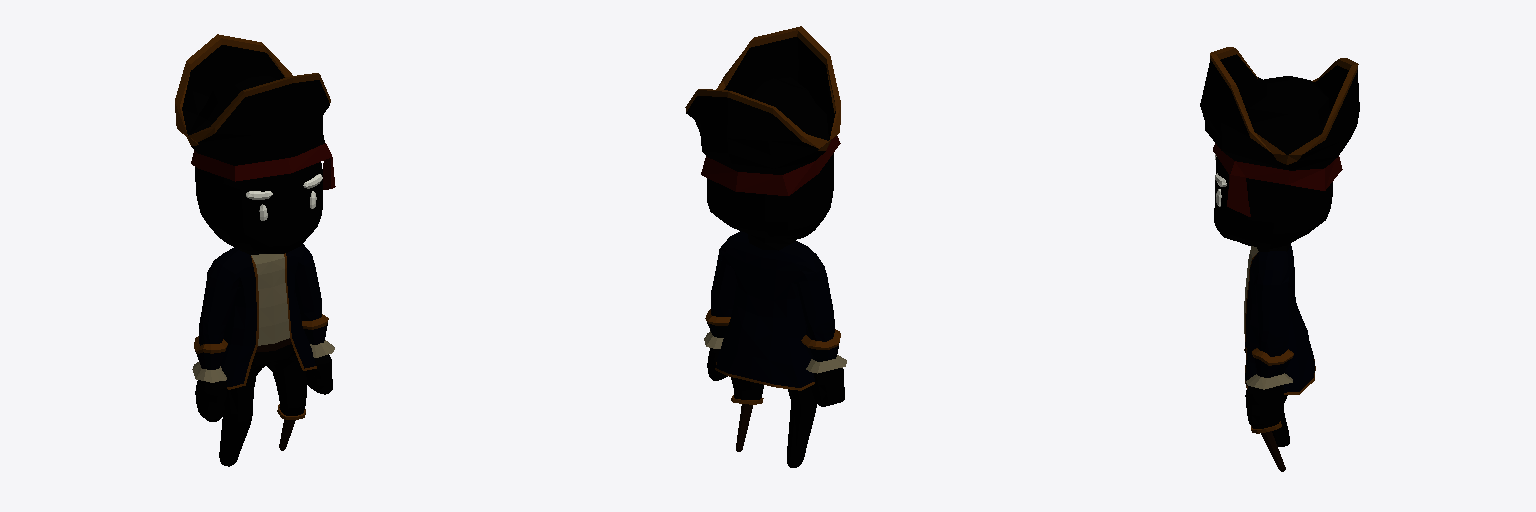
File: pirate.obj
3 renders of one model, left to right at view 1: azimuth 30°, elevation 25°; view 2: azimuth 150°, elevation 25°; view 3: azimuth 270°, elevation 25°, orthographic.
Visible parts, largest first — view 1: Body_Cube.004; view 2: Body_Cube.004; view 3: Body_Cube.004.
Part boxes in pixels (left/top/right/bottom): Body_Cube.004: left=175, top=34, right=335, bottom=466; Body_Cube.004: left=685, top=26, right=846, bottom=467; Body_Cube.004: left=1200, top=47, right=1359, bottom=471.
Bounding box in the file's own units: 1.33 × 3.76 × 1.34.